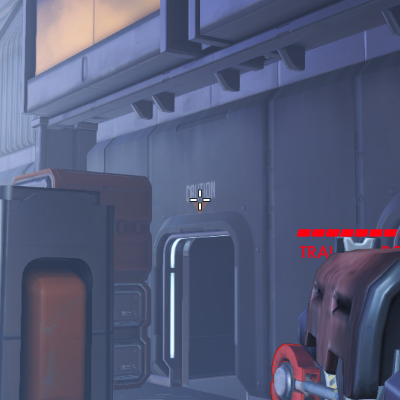hpbar: (296, 228, 400, 238)
